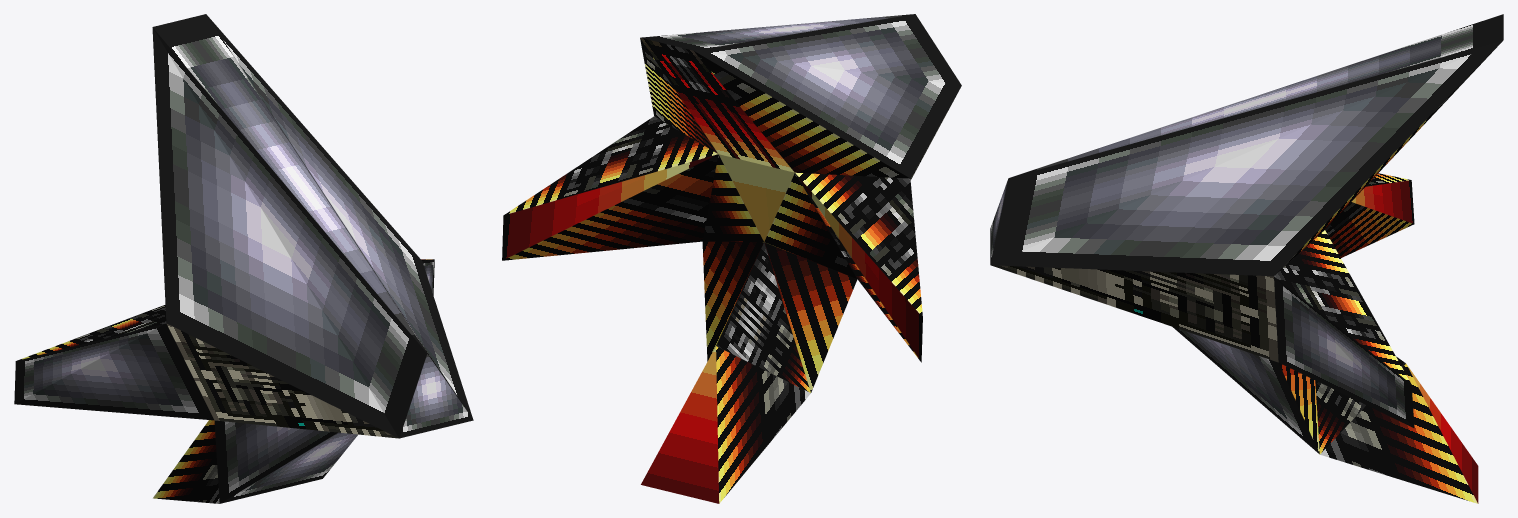
The model's file is flip_bot.fbx.
3 renders of one model, left to right at view 1: azimuth 30°, elevation 25°; view 2: azimuth 150°, elevation 25°; view 3: azimuth 270°, elevation 25°, orthographic.
Visible parts, largest first — view 1: Flip_Bot.001; view 2: Flip_Bot.001; view 3: Flip_Bot.001.
Part boxes in pixels (left/top/right/bottom): Flip_Bot.001: left=14, top=14, right=473, bottom=503; Flip_Bot.001: left=502, top=14, right=961, bottom=503; Flip_Bot.001: left=990, top=14, right=1503, bottom=503.
Size of the model in its own units: 6090 by 6375 by 6479.
4 materials, 4 textured.
